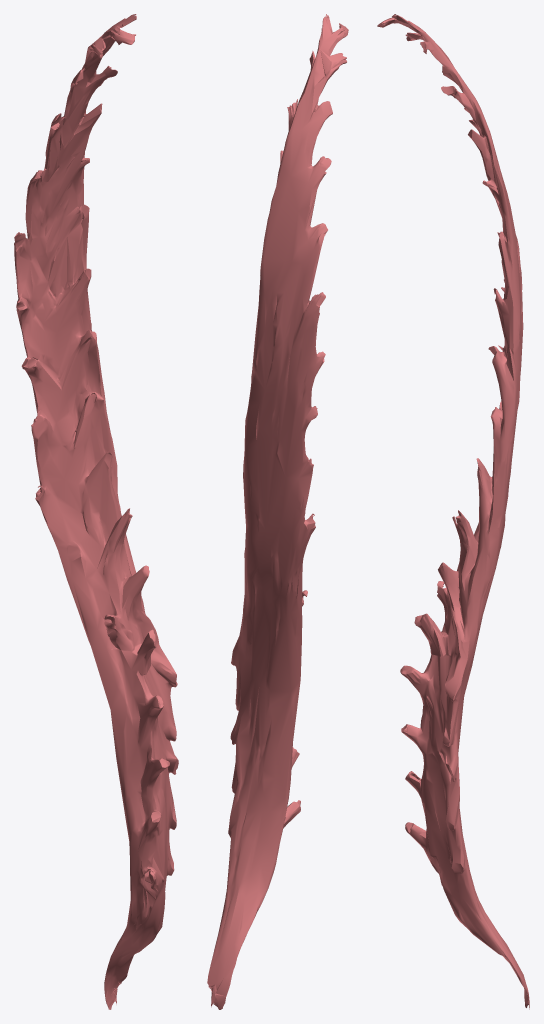
3 renders of one model, left to right at view 1: azimuth 30°, elevation 25°; view 2: azimuth 150°, elevation 25°; view 3: azimuth 270°, elevation 25°, orthographic. The views are drawn at different scales.
Visible parts, largest first — view 1: FJ1535; view 2: FJ1535; view 3: FJ1535.
Part boxes in pixels (<box>): FJ1535: <box>14,14,178,1009</box>; FJ1535: <box>207,14,348,1009</box>; FJ1535: <box>377,14,529,1009</box>.
Size of the model in its own units: 0.069 by 0.5186 by 0.0737.
